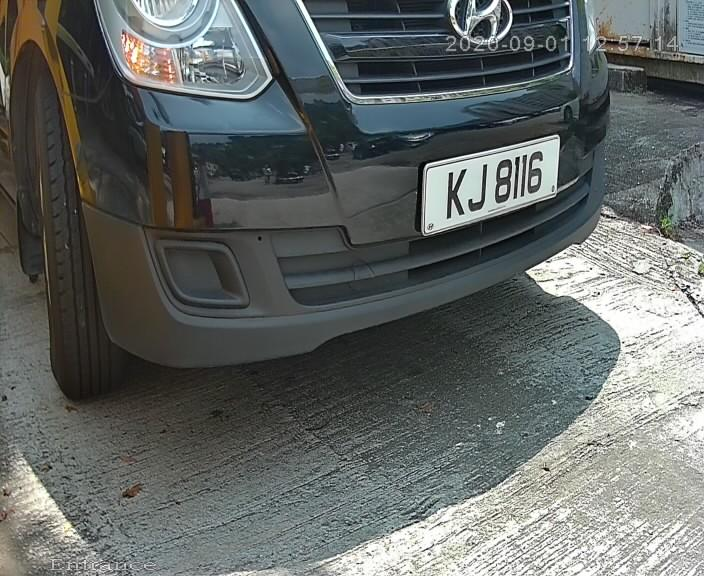License Plate: (406, 129, 563, 242)
